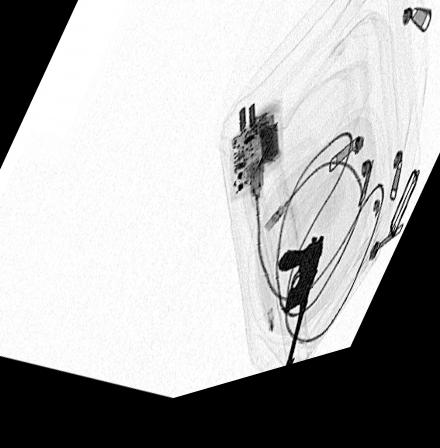Gun: (278, 247, 326, 382)
